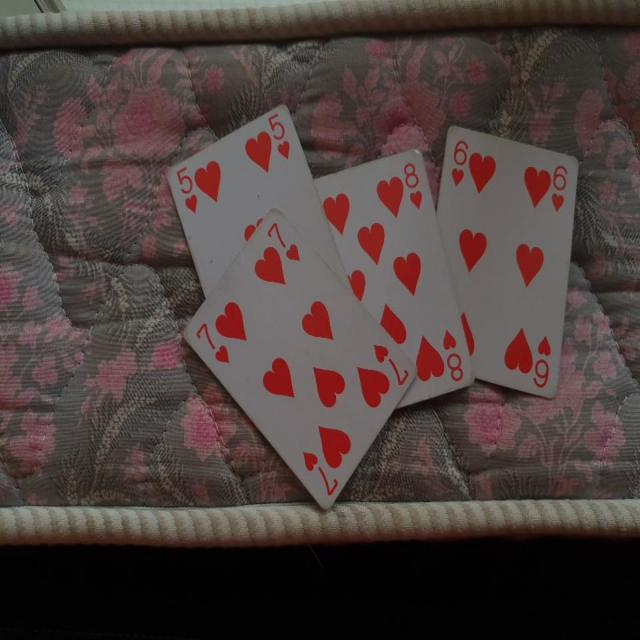5 Hearts: (162, 100, 368, 316)
6 Hearts: (434, 119, 587, 402)
7 Hearts: (169, 205, 417, 514)
8 Hearts: (311, 145, 478, 418)
